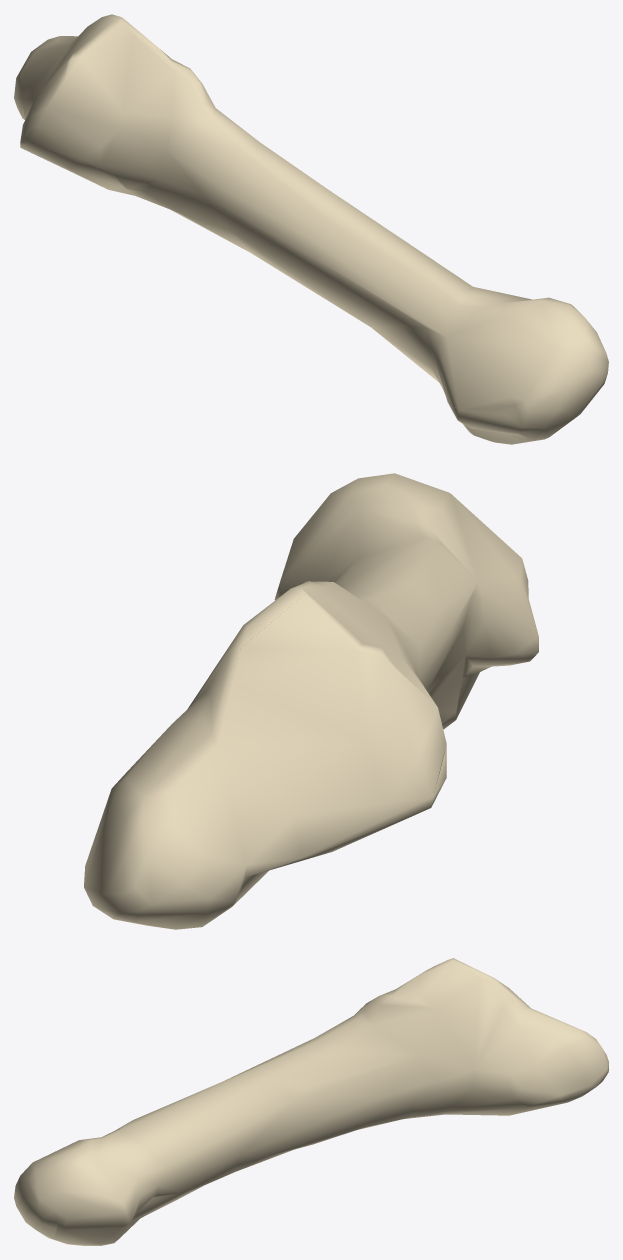
File: esqueleto-fifth-metatarsal-bone-l.glb
3 views of the same model, one above another, from view 1: azimuth 30°, elevation 25°; view 2: azimuth 150°, elevation 25°; view 3: azimuth 270°, elevation 25° (orthographic). The views are drawn at different scales.
Parts seen in each view (by area): view 1: Fifth metatarsal bone.l; view 2: Fifth metatarsal bone.l; view 3: Fifth metatarsal bone.l.
Part boxes in pixels (x1,y1,x2,y2): Fifth metatarsal bone.l: (14, 14, 608, 444); Fifth metatarsal bone.l: (84, 473, 538, 929); Fifth metatarsal bone.l: (14, 958, 608, 1245).
Size of the model in its own units: 0.037 by 0.0312 by 0.0737.
